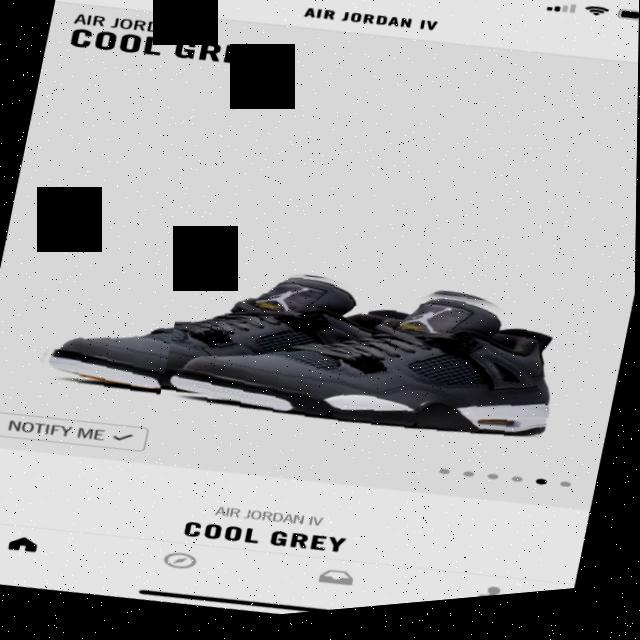shoe: (156, 235, 600, 501), (26, 216, 417, 460)
